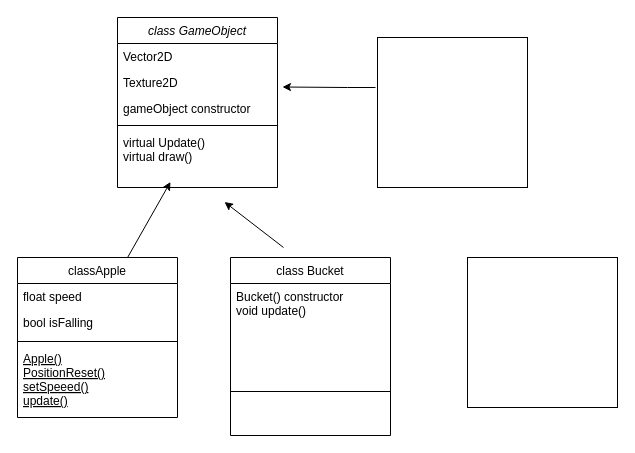
Some shapes in this 635 by 453 pixel diagram are drawn without their labels. The shapes that lost their labels are listed below. From the top down, each one's centre as x and y in pixels, then its label:
At (452,112): "class BOmb void reset() void update()".
At (542,332): "class COlllisoonFUnction checkCollision()".
